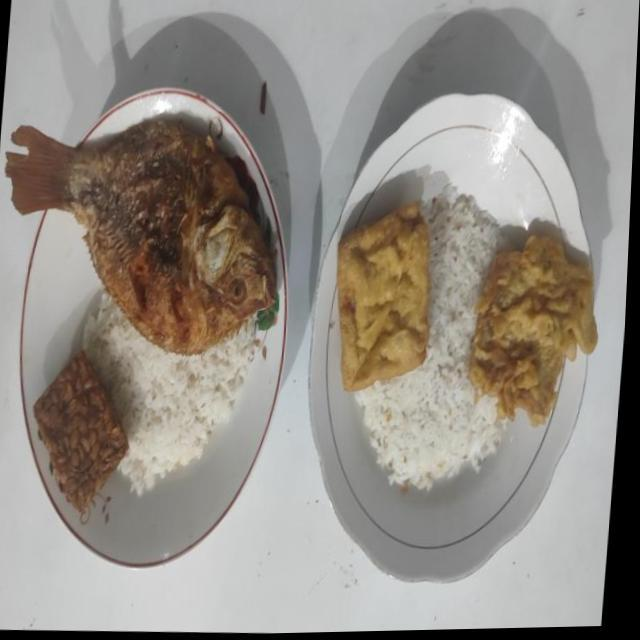ikan_mujair: (6, 120, 276, 354)
nasi_putih: (355, 184, 506, 490), (83, 290, 255, 495)
tahu_goreng: (336, 202, 429, 390)
tempe_goreng: (33, 350, 128, 520)
